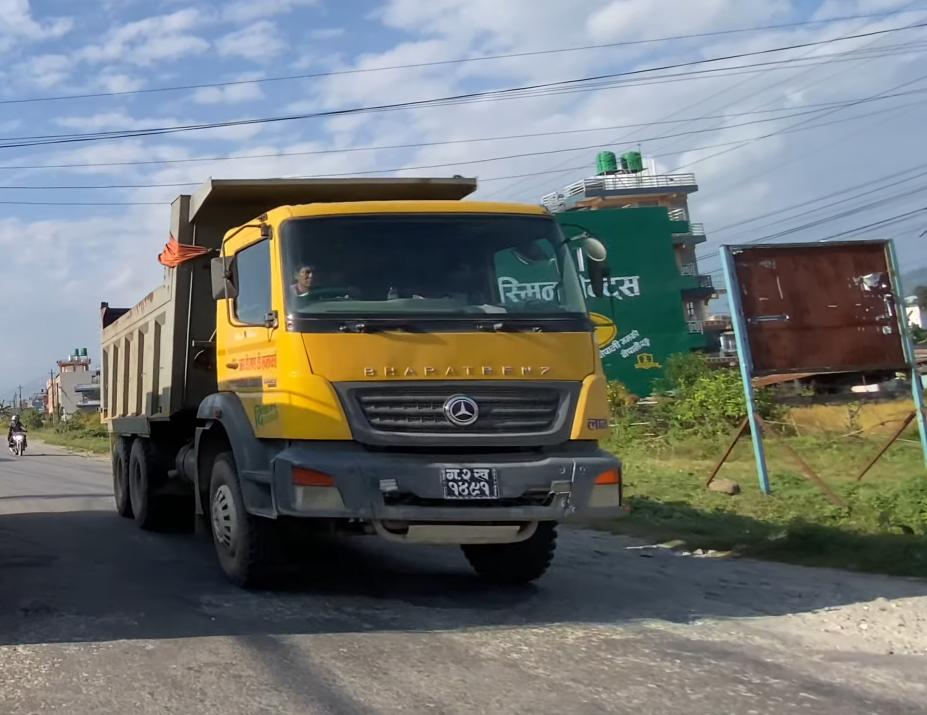bike: (7, 427, 27, 455)
truck: (99, 174, 627, 588)
